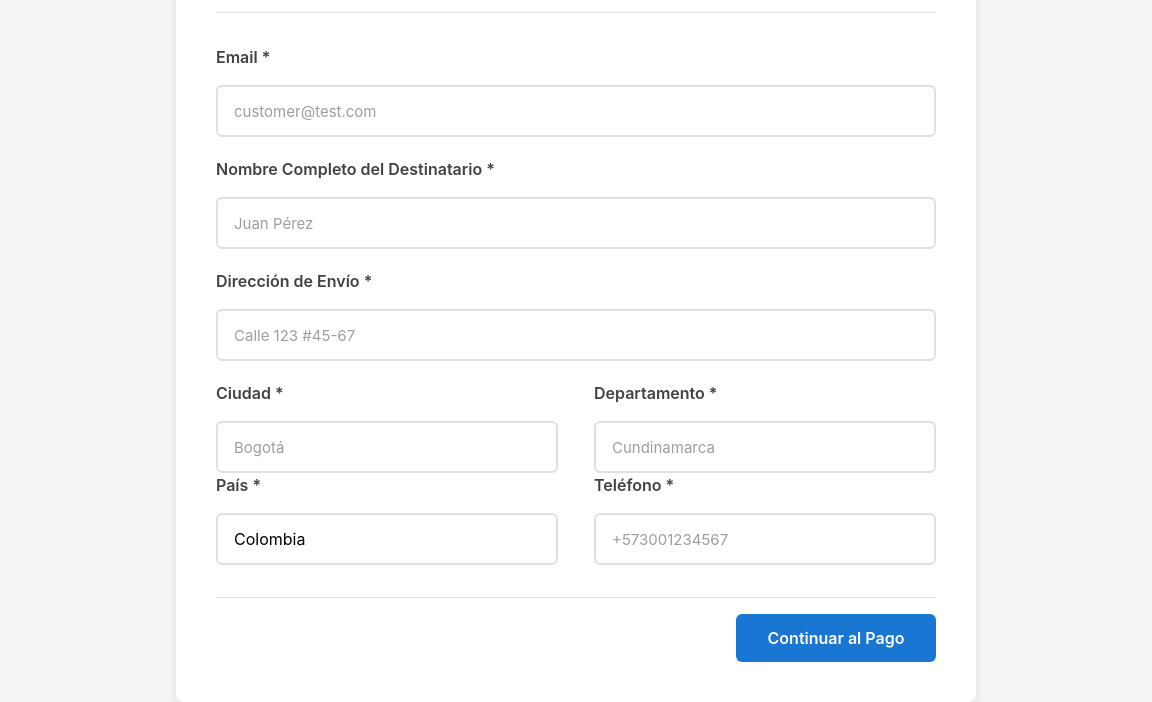
Scenario: DeliveryForm Component › Validaciones de campos requeridos › debe mostrar error cuando el teléfono está vacío
(page scrolled)
Click the button "Continuar al Pago" at (836, 638), box left=736, top=614, right=936, bottom=662
(page scrolled)
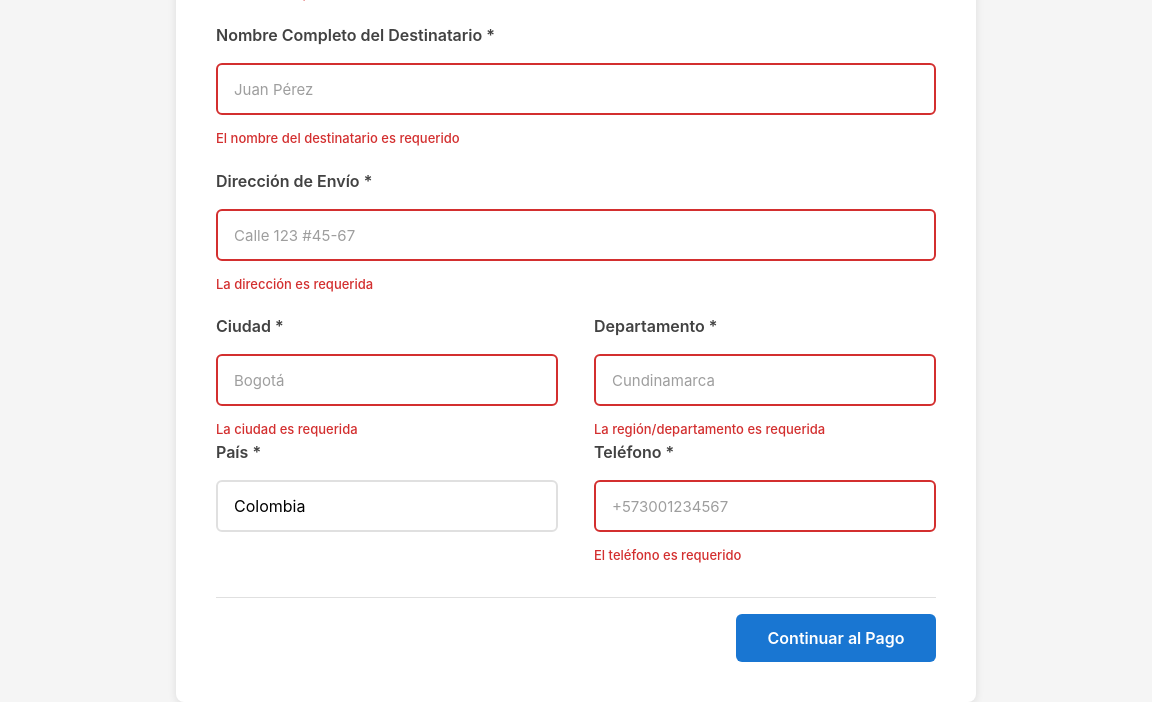
Expected: the text "El teléfono es requerido" is shown, left=594, top=546, right=741, bottom=562
